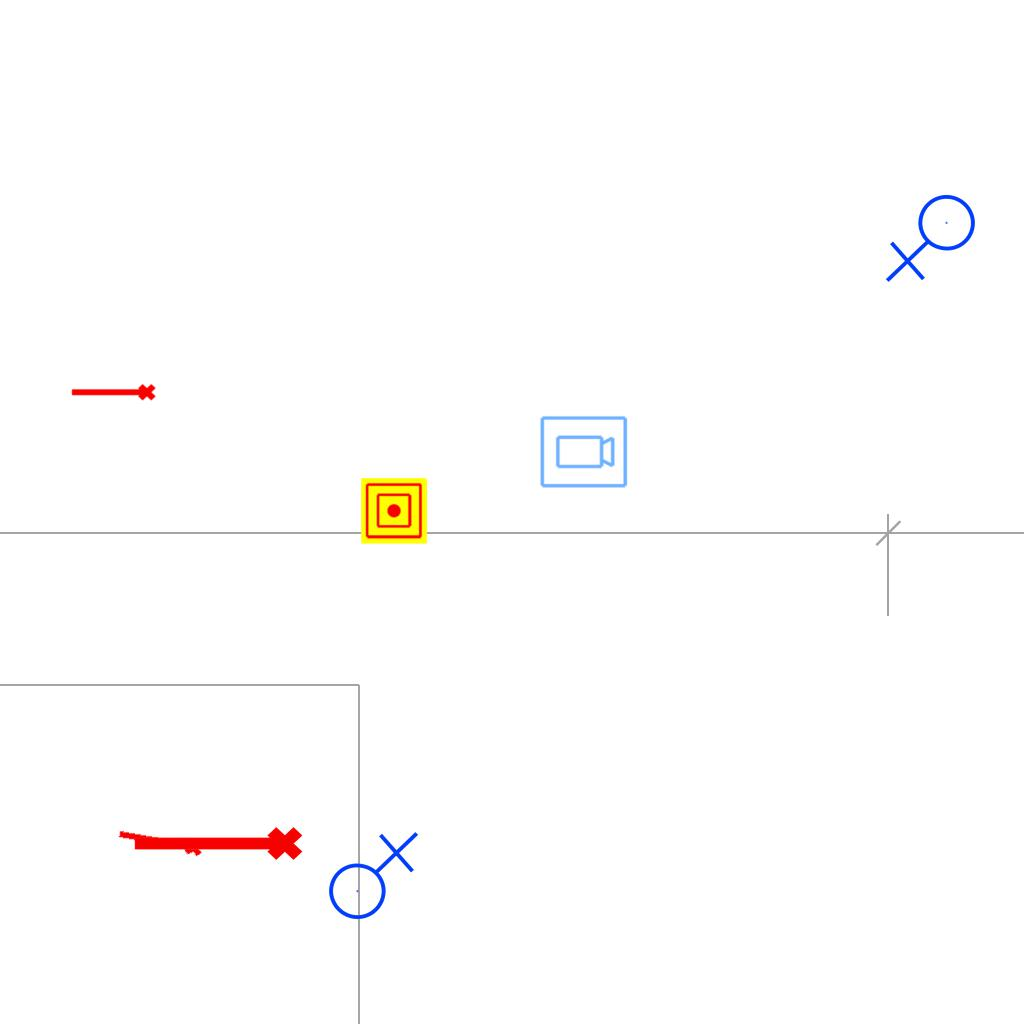ASR_Ansaugoeffnung: (129, 823, 305, 869), (114, 823, 206, 862), (69, 382, 157, 405)
Elektroanschluss_allgemein_230V_Geraeteanschlussdose_230V: (885, 193, 984, 287), (320, 827, 419, 921)
KFO_Kamera_mit_Festobjektiv: (538, 414, 629, 491)
NAM-Nichtautomatischer_Melder: (361, 478, 427, 544)
